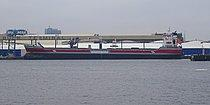Ship: (22, 39, 187, 60)
